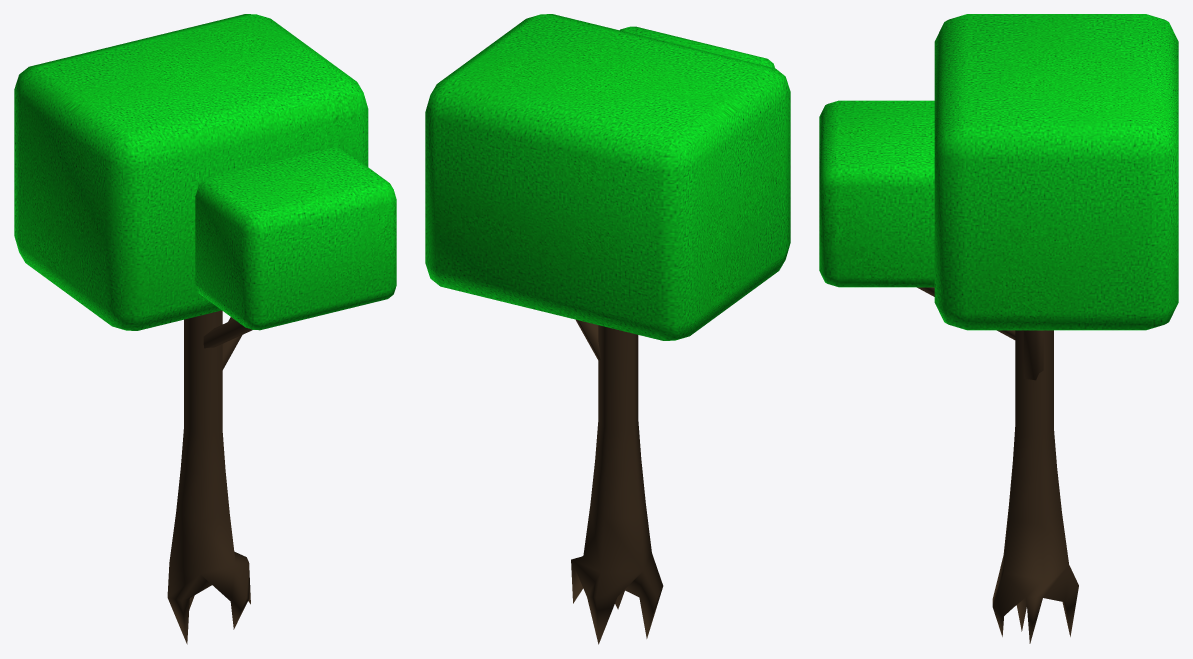
The model's file is Tree01.fbx.
3 views of the same model, side by side, from view 1: azimuth 30°, elevation 25°; view 2: azimuth 150°, elevation 25°; view 3: azimuth 270°, elevation 25° (orthographic). The views are drawn at different scales.
Parts seen in each view (by area): view 1: Cylinder; view 2: Cylinder; view 3: Cylinder.
Boxes of the visible parts, bbox=[...] form: Cylinder: bbox=[14, 14, 396, 644]; Cylinder: bbox=[425, 14, 790, 644]; Cylinder: bbox=[819, 14, 1178, 643].
Size of the model in its own units: 316 by 653 by 370.
Materials: 2 (1 with a texture image).
